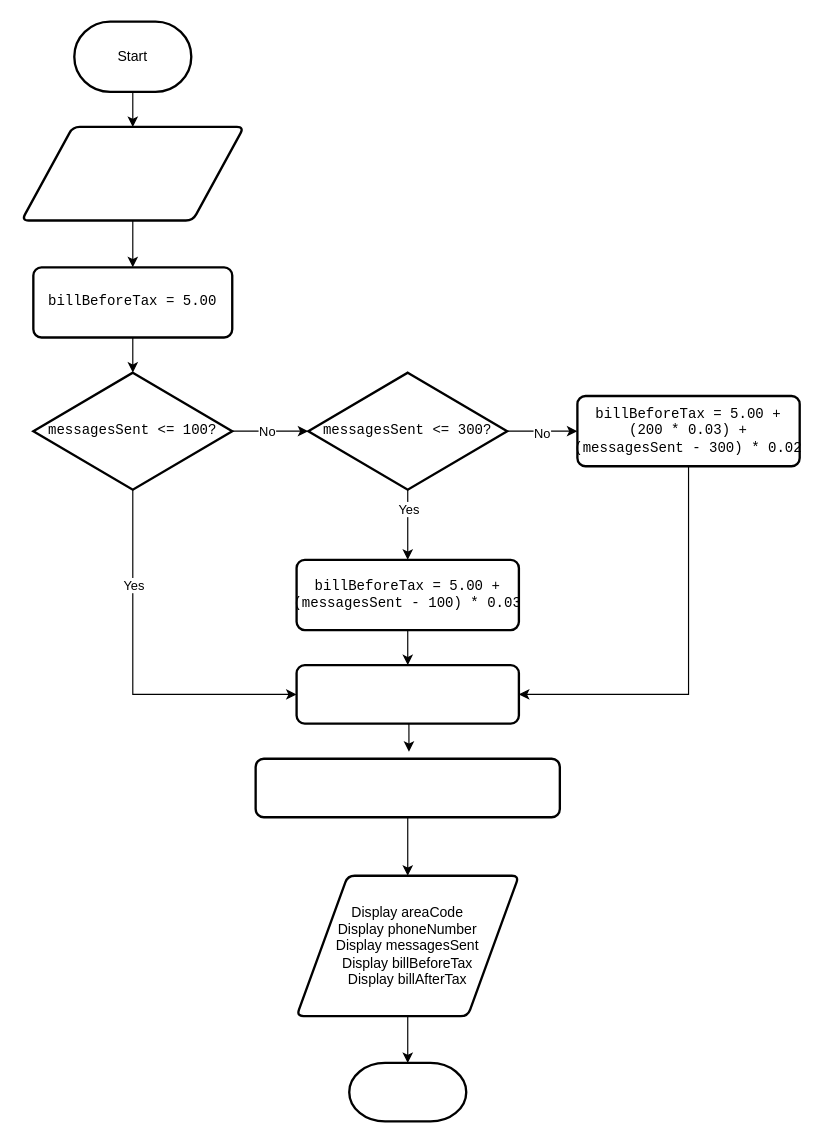
The diagram is 821 pixels wide and 1142 high, and some of its shapes have lost their labels. Here are the shapes that lost their labels. From the top down, the centre of each, then its label:
At (132,173): "Input areaCode Input phoneNumber Input messagesSent".
At (407,693): "tax = billBeforeTax * 0.14".
At (407,787): "billAfterTax = billBeforeTax + tax".
At (407,1091): "End".
